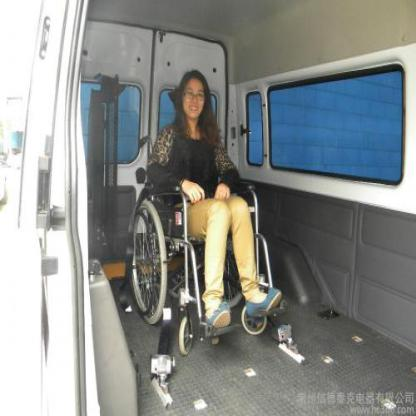wheelchair: (131, 63, 283, 353)
